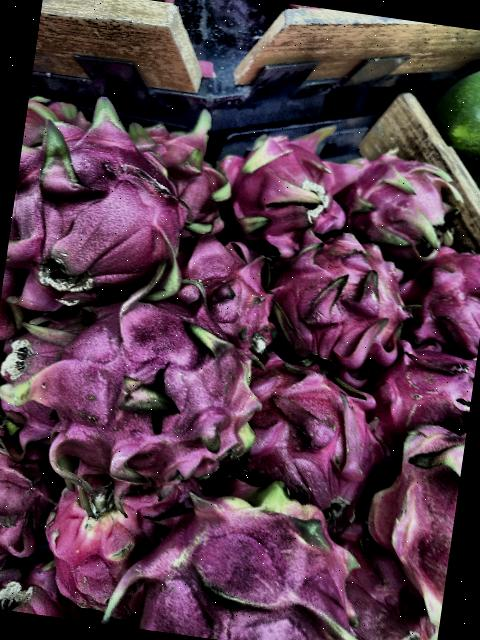buah-naga-matang: (7, 286, 267, 486), (126, 463, 374, 640), (4, 101, 204, 303), (226, 354, 387, 522), (264, 224, 420, 376), (35, 456, 164, 619), (362, 418, 467, 610), (215, 127, 366, 251), (157, 229, 286, 370), (133, 108, 250, 242), (340, 142, 461, 260), (363, 330, 479, 438), (0, 408, 62, 592), (406, 237, 480, 350)
